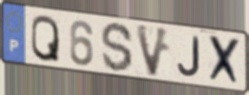6: (68, 18, 94, 67)
J: (176, 35, 202, 79)
Q: (30, 14, 62, 64)
S: (100, 21, 135, 74)
V: (134, 22, 172, 79)
X: (207, 33, 242, 88)
